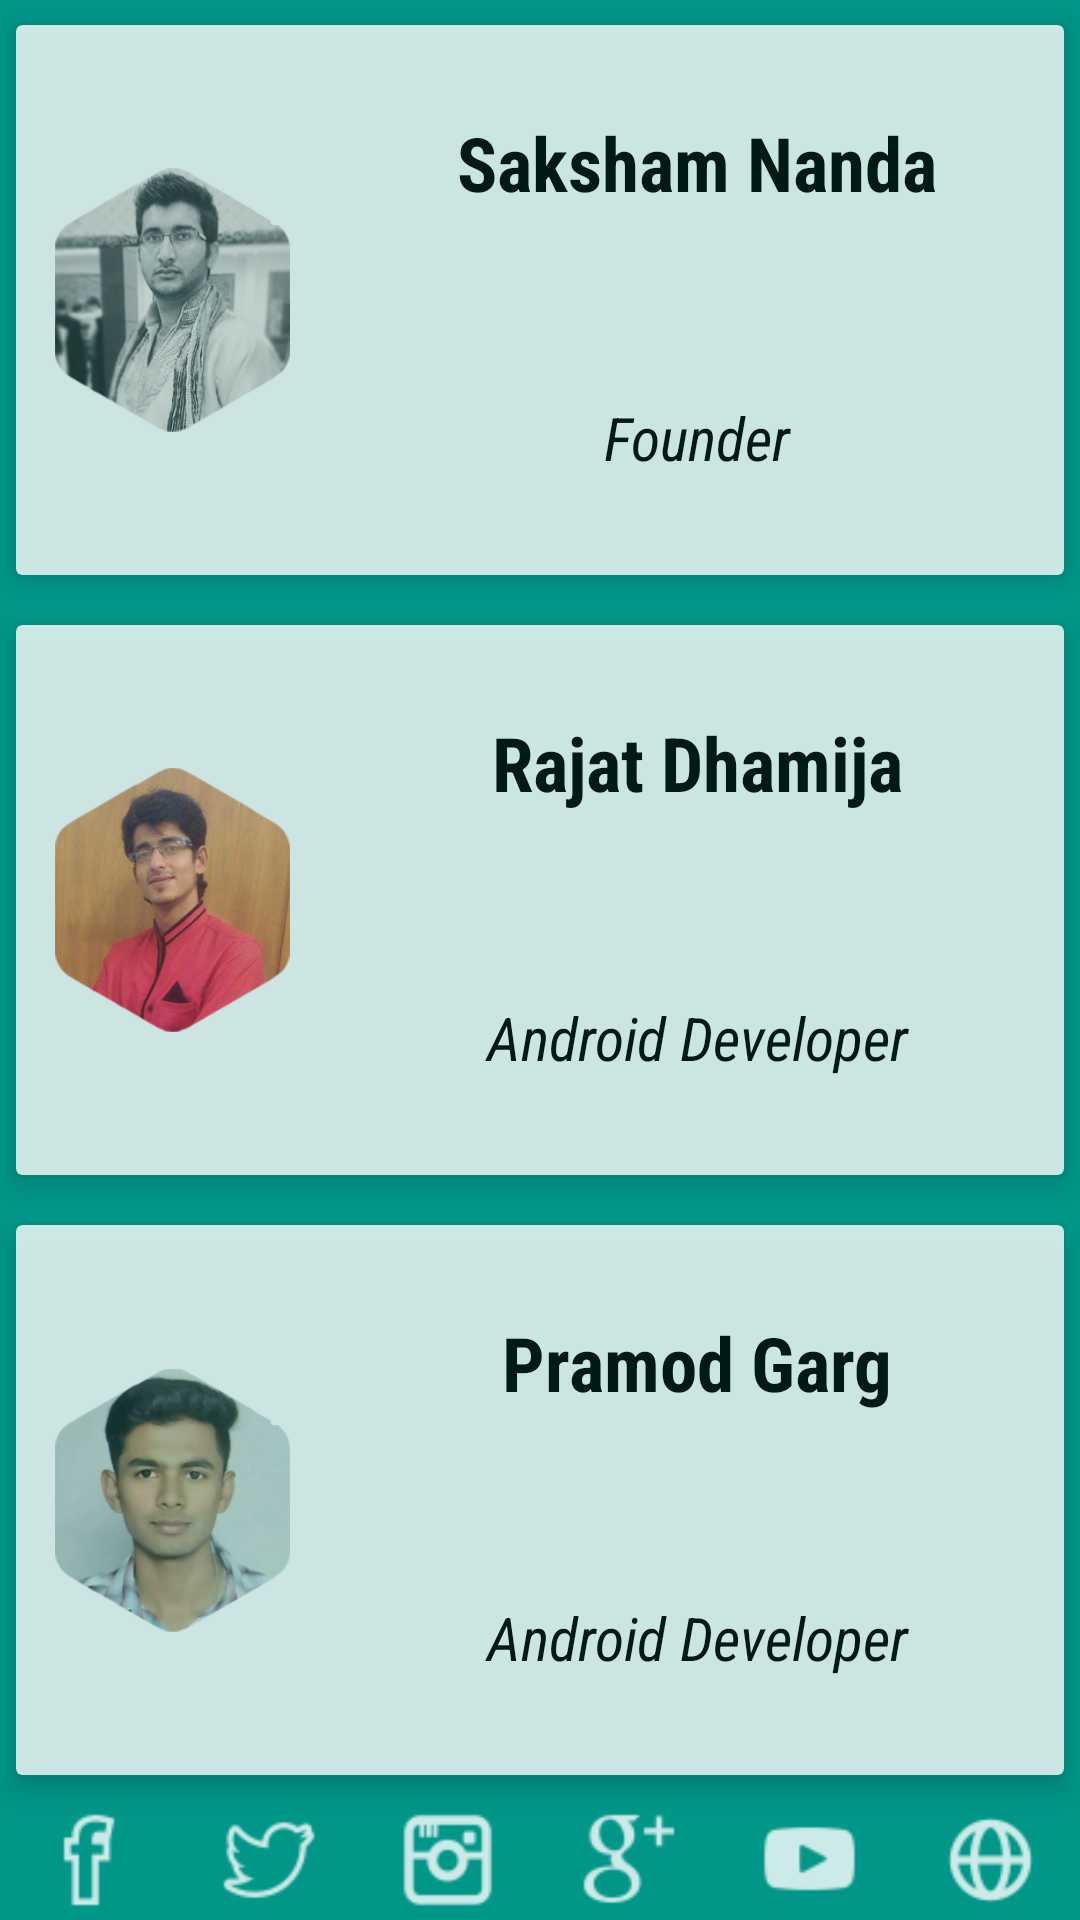

Icons on this 1080 × 1920 Android screen, each with the point to tap as point (x, y):
web: point (990, 1860)
